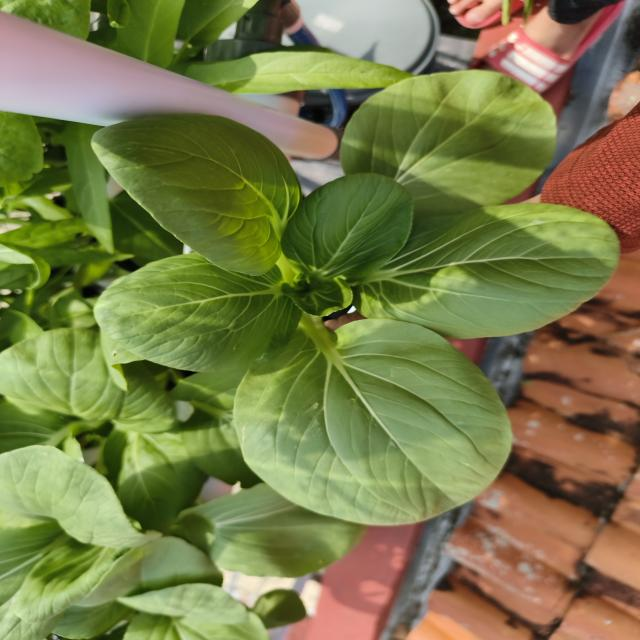daun-pakcoy: (236, 316, 510, 524), (354, 202, 620, 338), (92, 113, 301, 275), (341, 70, 556, 217), (95, 253, 301, 379), (285, 160, 413, 315)
